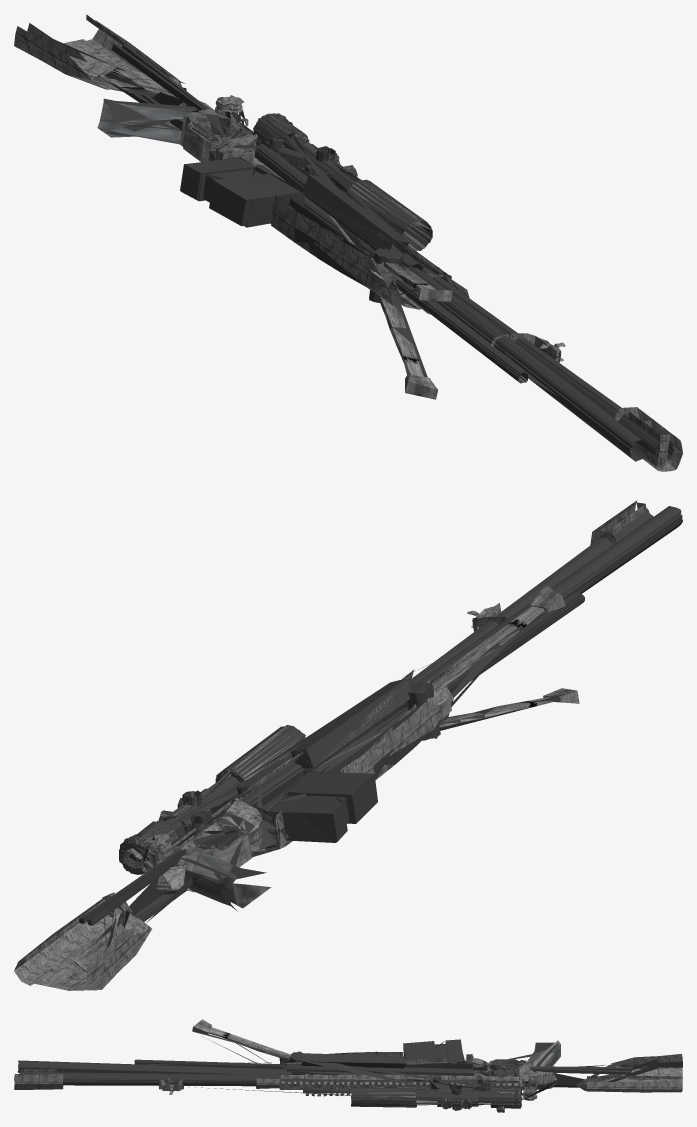
File: tris.obj
The picture shows the model from 3 angles, top to bottom: view 1: azimuth 30°, elevation 25°; view 2: azimuth 150°, elevation 25°; view 3: azimuth 270°, elevation 25°; orthographic projection. The views are drawn at different scales.
Parts seen in each view (by area): view 1: tris; view 2: tris; view 3: tris.
Part boxes in pixels (bbox=[...]): tris: bbox=[14, 14, 682, 471]; tris: bbox=[14, 500, 682, 990]; tris: bbox=[14, 1019, 682, 1112].
Bounding box in the file's own units: 1.9 × 1.17 × 11.73.
Materials: 1 (1 with a texture image).
